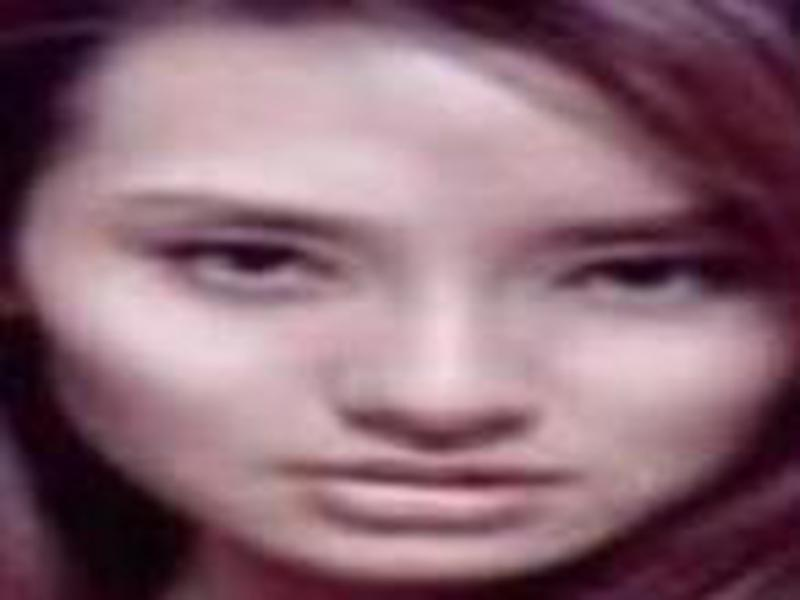without_mask: (24, 116, 792, 576)
